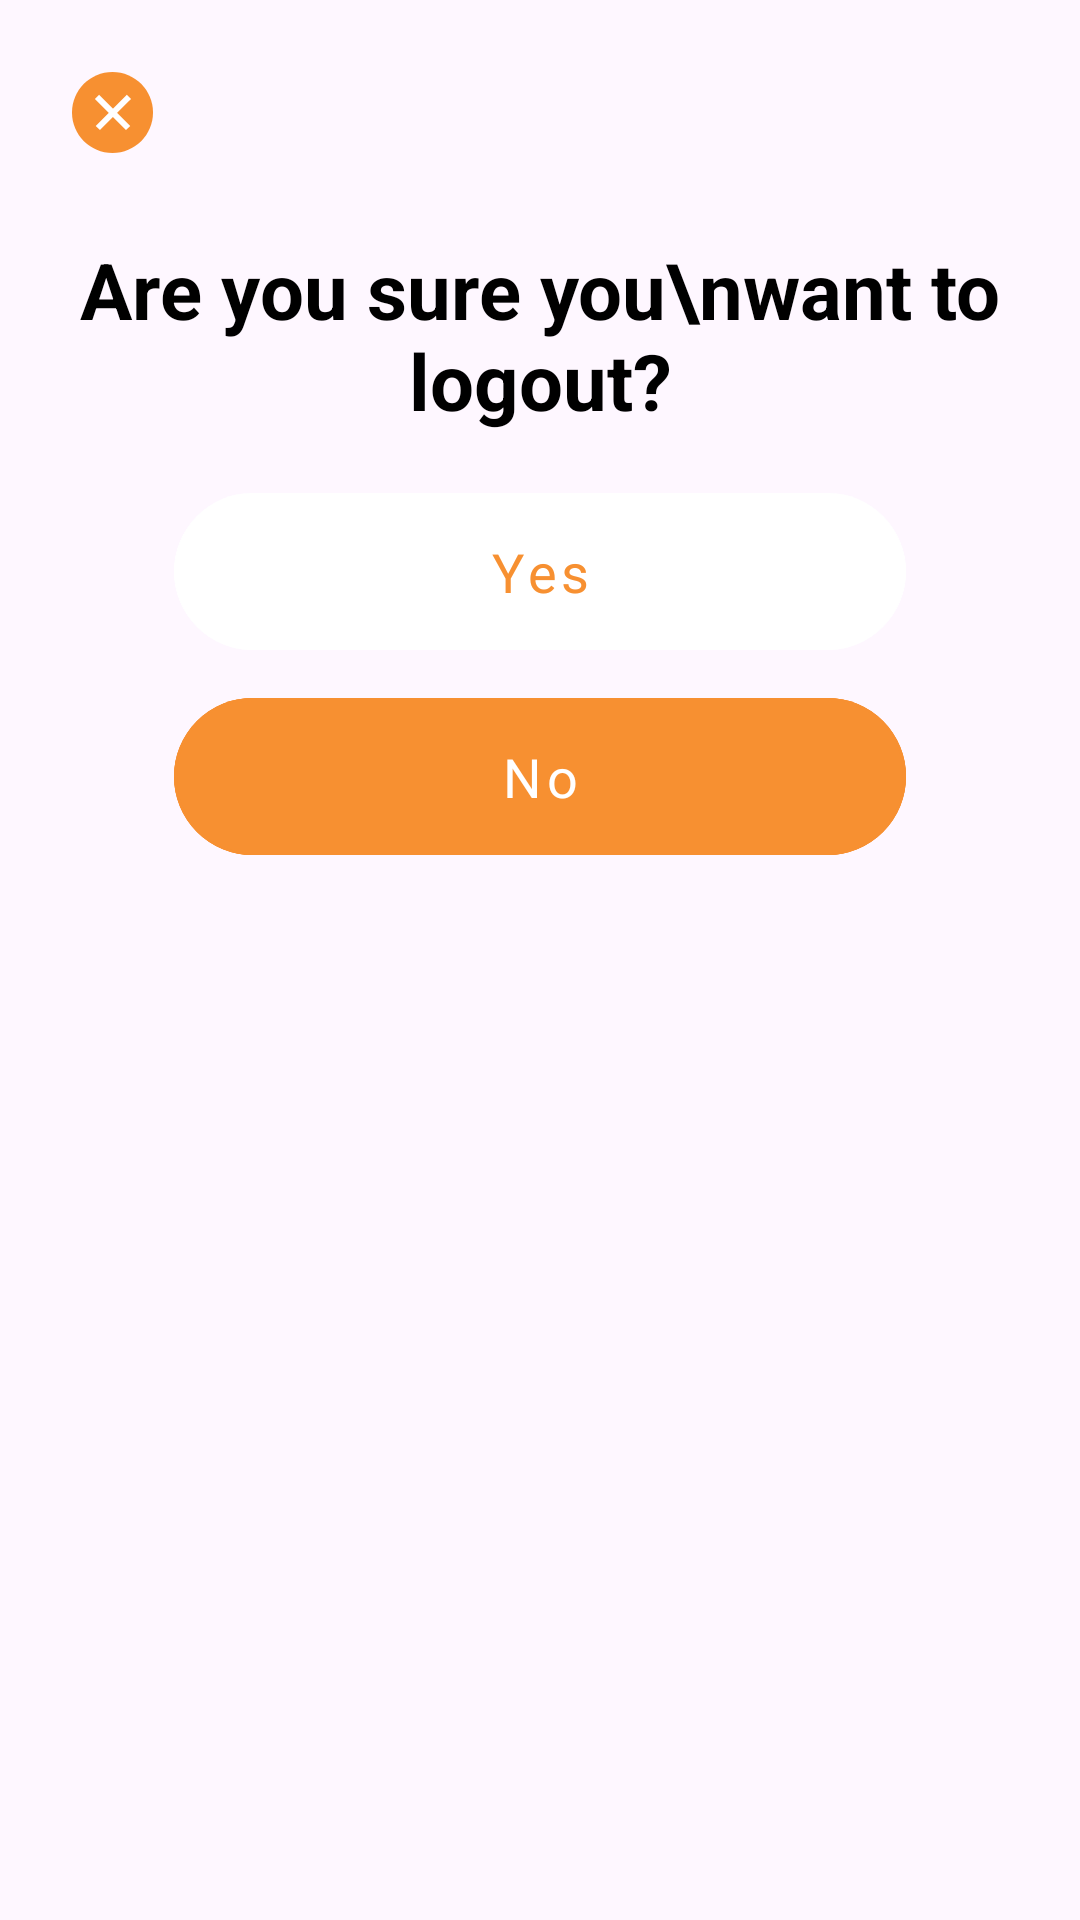

Screen size 1080*1920. Icon name, then its box in pixels as (x1, y1, x2, y2):
close dialog: (72, 72, 153, 153)
